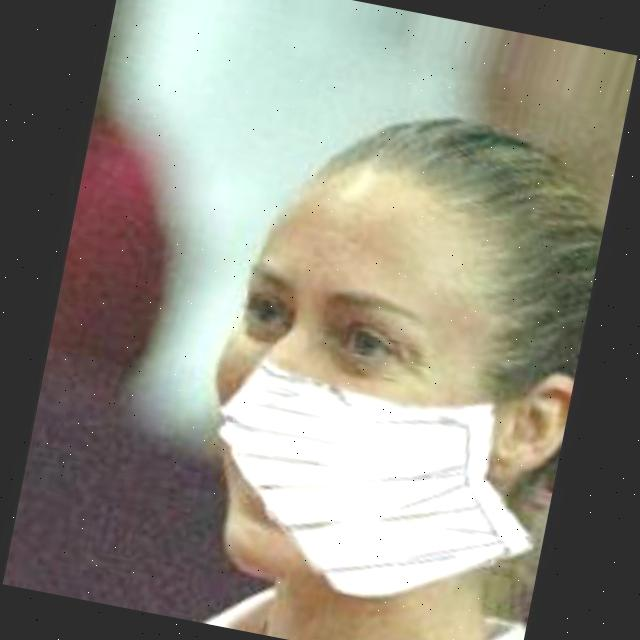suspicion: (142, 119, 554, 632)
